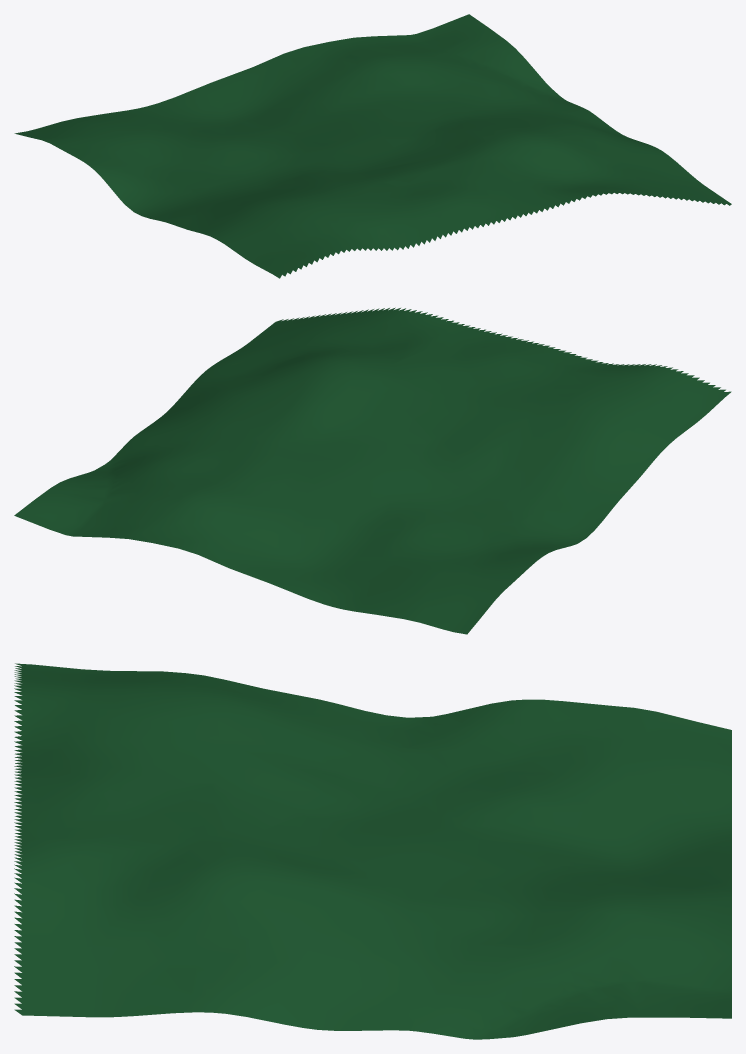
Rendered from payo_land_xm3_ym2_lod2.glb.
3 views of the same model, one above another, from view 1: azimuth 30°, elevation 25°; view 2: azimuth 150°, elevation 25°; view 3: azimuth 270°, elevation 25° (orthographic). The views are drawn at different scales.
Visible parts, largest first — view 1: payo_land_xm3_ym2; view 2: payo_land_xm3_ym2; view 3: payo_land_xm3_ym2.
Part boxes in pixels (x1,y1,x2,y2): payo_land_xm3_ym2: (14,14,731,278); payo_land_xm3_ym2: (14,307,731,634); payo_land_xm3_ym2: (14,663,731,1039).
Bounding box in the file's own units: 255 × 36.06 × 258.
